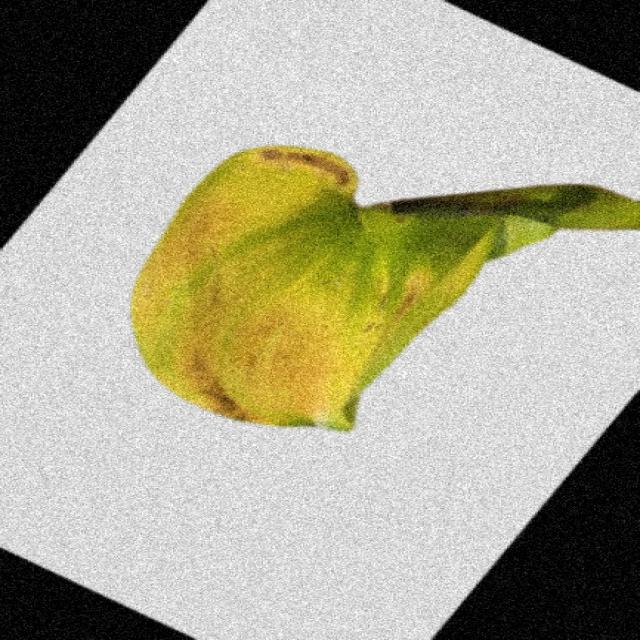daun berpenyakit kuning: (132, 147, 640, 431)
